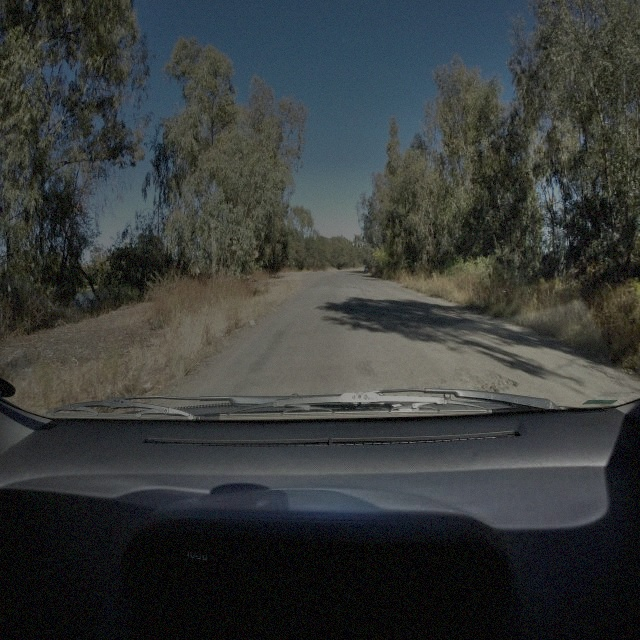pothole: (472, 364, 518, 394)
